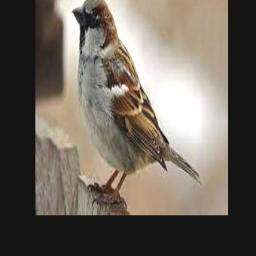Sparrow: (72, 0, 201, 207)
